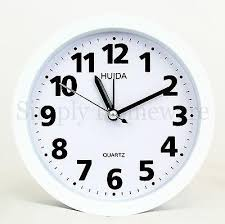alarm_clock: (10, 25, 219, 213), (12, 25, 219, 213), (12, 29, 219, 213)
